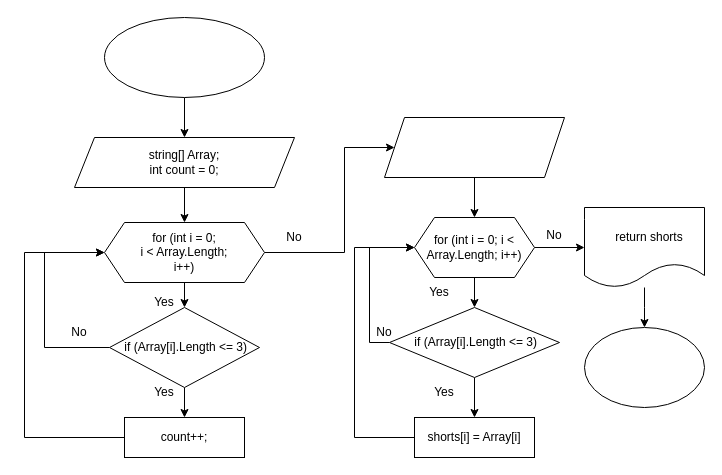
Image size: 722x475. Some labels were removed from this diagram. Here are the shapes that lost their labels. From the top down, the box of each, then its label:
(104, 16, 264, 98): Start
(384, 116, 564, 178): string[] shorts = new string[count];
(584, 326, 704, 408): End
